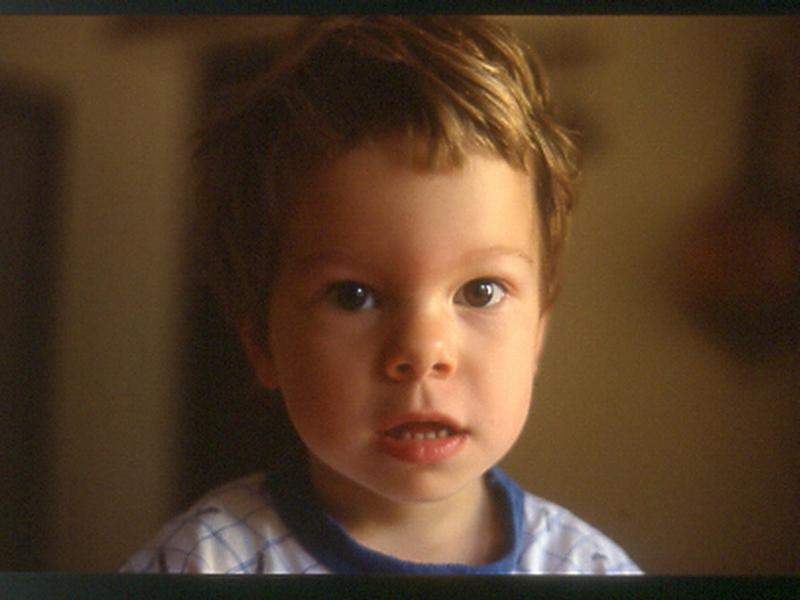person: (141, 14, 664, 577)
